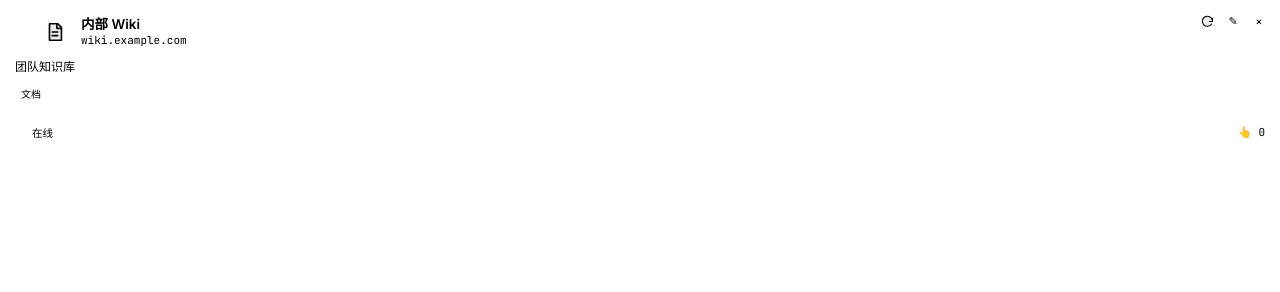
Test: NavCard context menu › copies the link and closes with Escape
Right-click the element with class "nav-card": (640, 78) [0,0,1279,157]
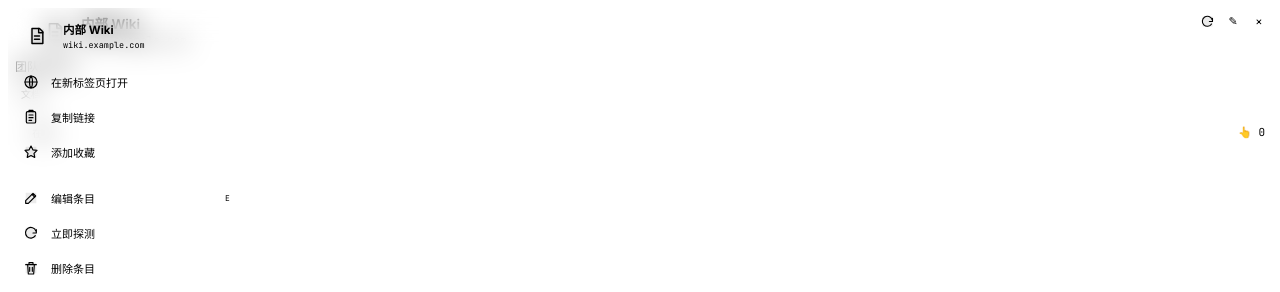
Click the menu item "复制链接": (130, 116) [14,99,246,134]
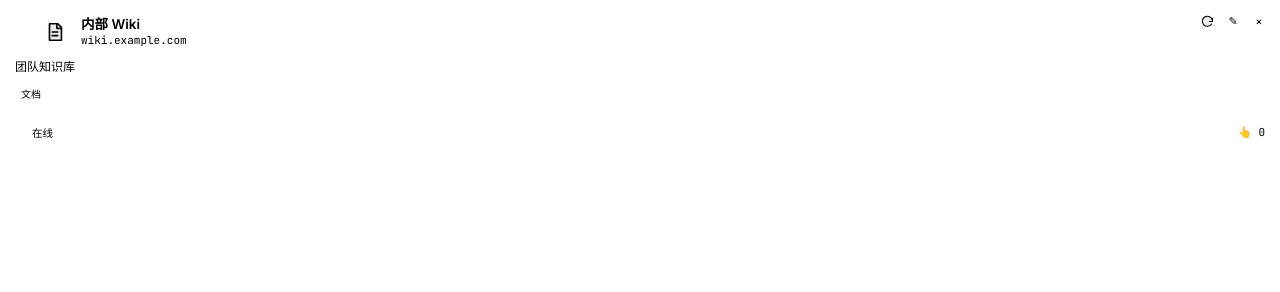
Right-click the element with class "nav-card": (640, 78) [0,0,1279,157]
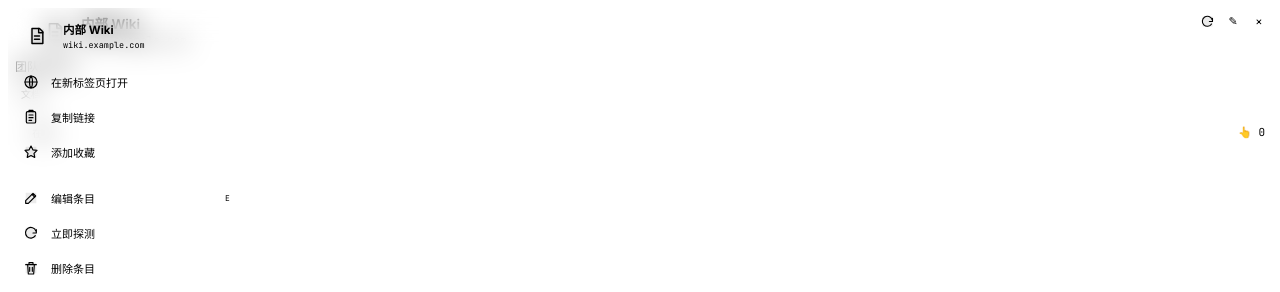
Press Escape
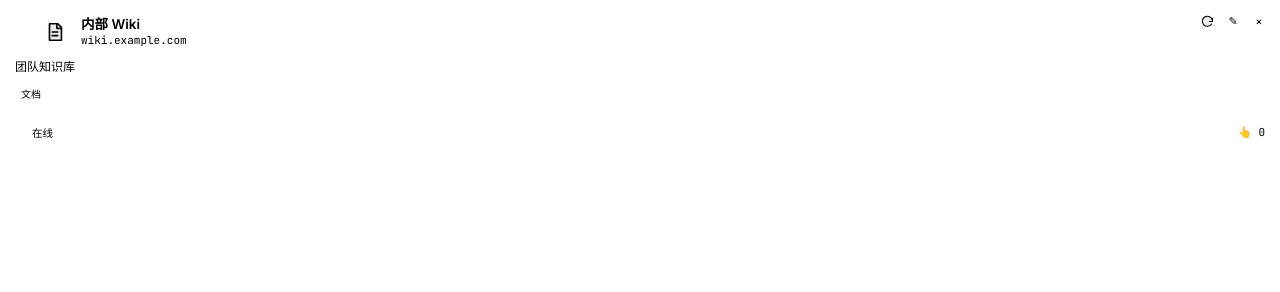
Expected: the menu is gone
